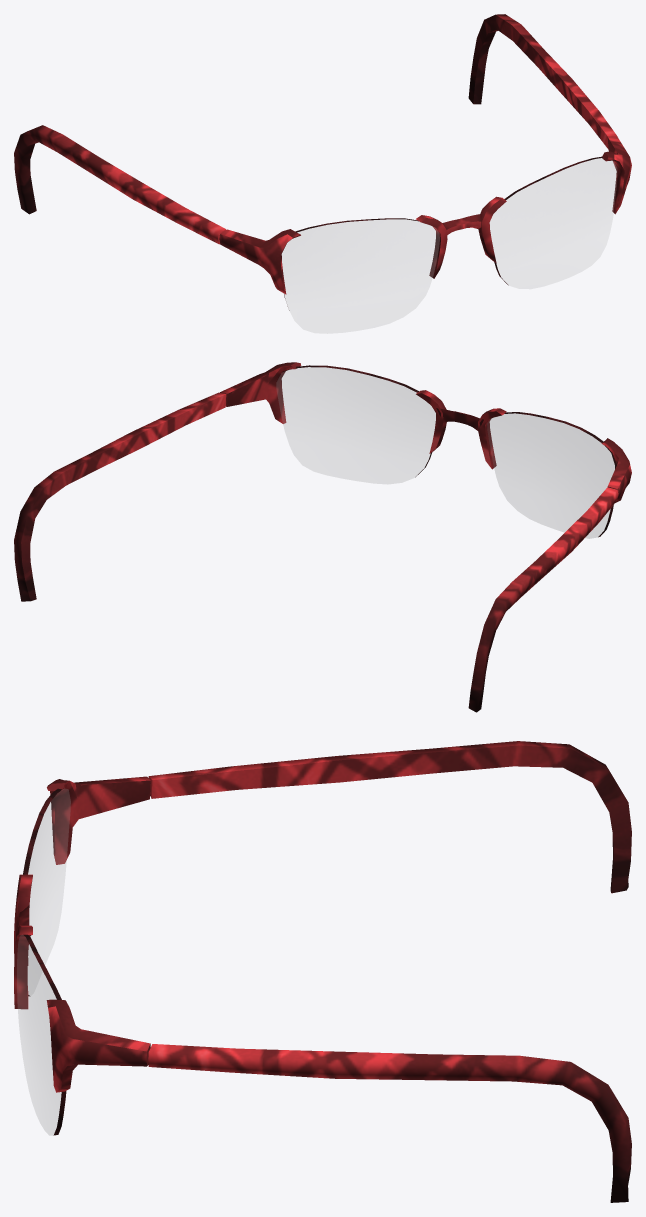
3 renders of one model, top to bottom at view 1: azimuth 30°, elevation 25°; view 2: azimuth 150°, elevation 25°; view 3: azimuth 270°, elevation 25°, orthographic. The views are drawn at different scales.
Visible parts, largest first — view 1: Wolf3D_Glasses; view 2: Wolf3D_Glasses; view 3: Wolf3D_Glasses.
Boxes of the visible parts, <box> form: Wolf3D_Glasses: <box>14,14,631,333</box>; Wolf3D_Glasses: <box>14,362,631,712</box>; Wolf3D_Glasses: <box>14,741,631,1202</box>.
Bounding box in the file's own units: 0.1643 × 0.037 × 0.1311.
Materials: 1 (1 with a texture image).
